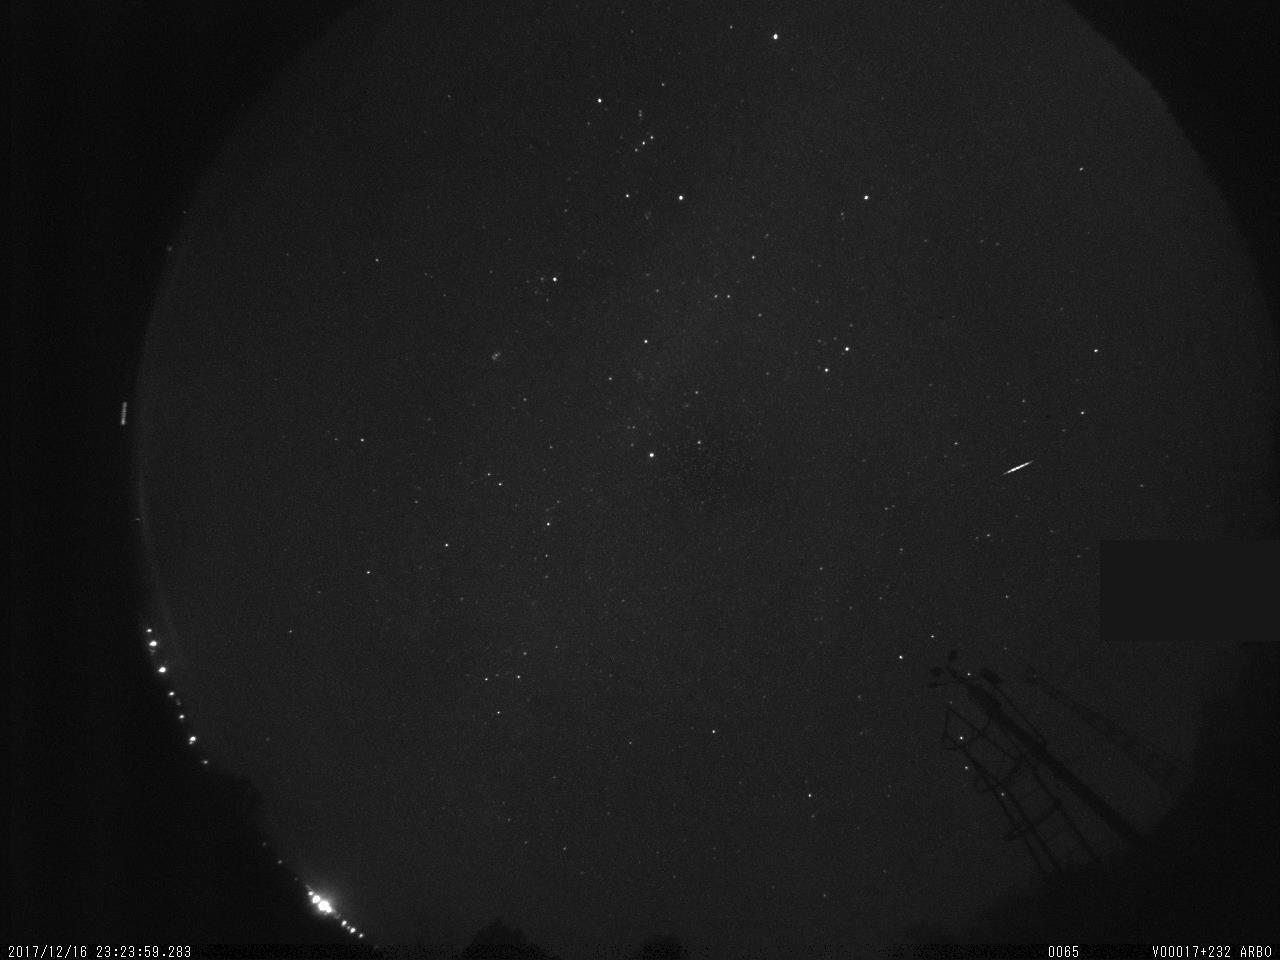meteor: (965, 451, 1045, 498)
